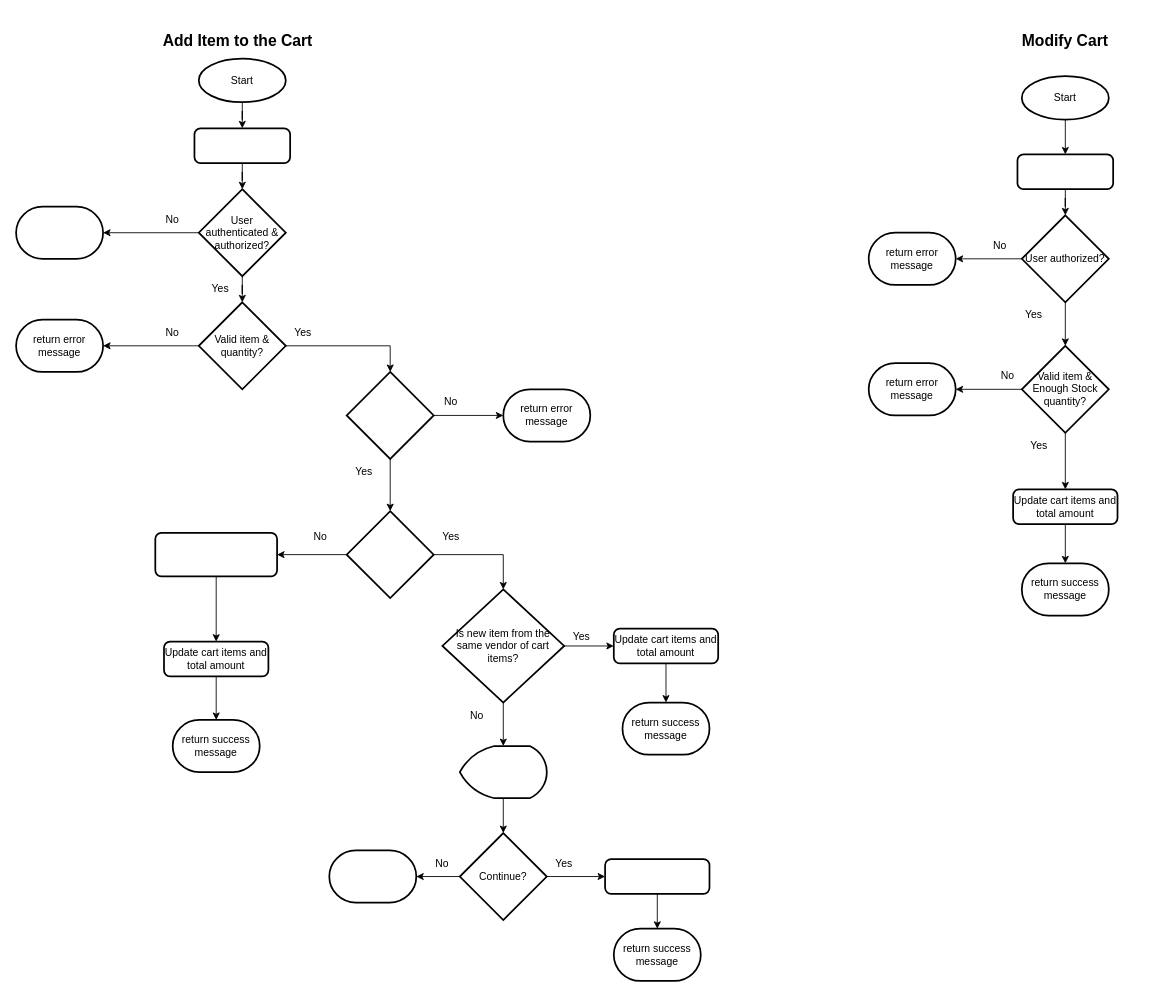
Image size: 1171x996. Some labels were removed from this diagram. Each missing label, with the box of its shape:
Clear cart & add new item & update total amonut: (604, 858, 710, 894)
Create user cart if not exists: (154, 532, 278, 577)
Display confirmation dialog: (458, 745, 547, 799)
Enough Stock quantity?: (345, 371, 434, 459)
Modify item quantity or remove item: (1016, 153, 1114, 190)
return to login page: (15, 205, 104, 259)
Select item to be added & quantity: (193, 127, 291, 164)
Stop the process: (328, 849, 417, 903)
User has cart?: (345, 510, 434, 599)
